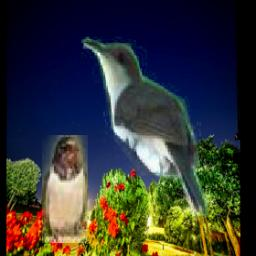Cuckoo: (82, 38, 209, 218)
Swallow: (42, 135, 88, 243)
